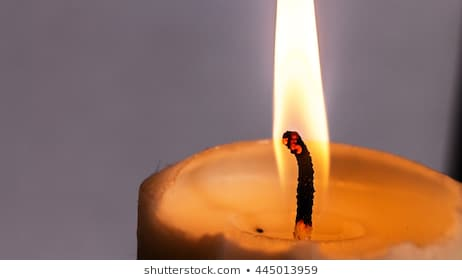Fire: (269, 1, 343, 199)
